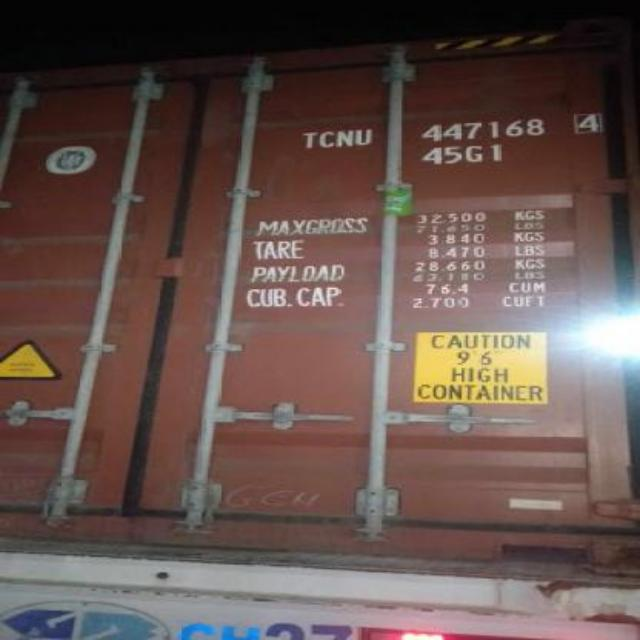1: (482, 115, 500, 141)
4: (572, 109, 604, 138), (420, 118, 444, 144), (440, 118, 464, 144)
6: (500, 116, 524, 140)
7: (460, 116, 480, 140)
8: (524, 111, 546, 141)
C: (318, 126, 336, 154)
N: (334, 125, 356, 157)
T: (298, 125, 320, 152)
U: (354, 124, 376, 152)
